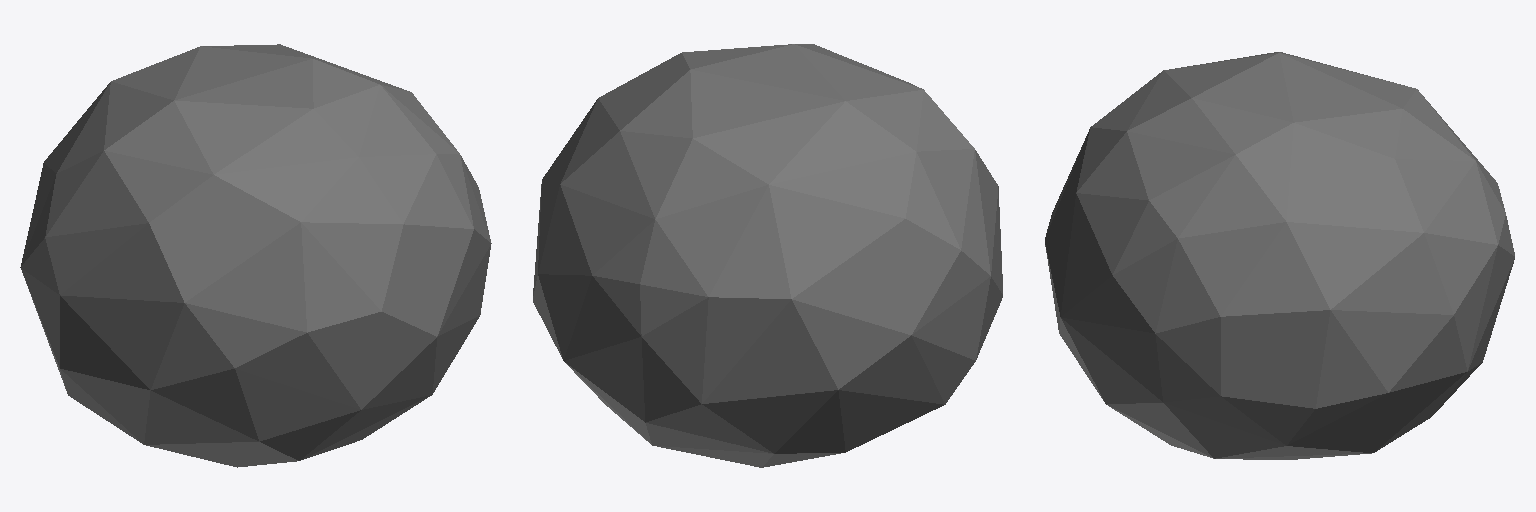
robot.urdf — watermelon_001:
<?xml version="1.0" ?>
<robot name="watermelon_001">
  <material name="color">
    <color rgba=".5 .5 .5 1"/>
  </material>

  <link name="base_link">
    <contact>
      <lateral_friction value="1.0"/>
      <rolling_friction value="0.001"/>
      <spinning_friction value="0.001"/>
      <inertia_scaling value="1.0"/>
    </contact>
    <inertial>
      <origin rpy="0 0 0" xyz="-0.000340308 -0.00171742 5.28722e-05"/>
       <mass value="0.1"/>
       <inertia ixx="1" ixy="0" ixz="0" iyy="1" iyz="0" izz="1"/>
    </inertial>

    <visual>
      <origin rpy="0 0 0" xyz="0 0 0"/>
      <geometry>
        <mesh filename="watermelon_001_vhacd_0_of_1.obj" scale="1 1 1"/>
      </geometry>
      <material name="color"/>
    </visual>

    <collision>
      <origin rpy="0 0 0" xyz="0 0 0"/>
      <geometry>
        <mesh filename="watermelon_001_vhacd_0_of_1.obj" scale="1 1 1"/>
      </geometry>
    </collision>

  </link>
</robot>

--- Facts derived from the render (not from the file) ---
The picture shows the robot from 3 angles, left to right: view 1: azimuth 30°, elevation 25°; view 2: azimuth 150°, elevation 25°; view 3: azimuth 270°, elevation 25°; orthographic projection.
Robot: watermelon_001 — 1 links, 0 joints (none); root link base_link; default pose: all joints at 0.
Links seen in each view (by area): view 1: base_link; view 2: base_link; view 3: base_link.
Boxes of the visible links, <box> form: base_link: <box>20,44,491,467</box>; base_link: <box>533,44,1002,467</box>; base_link: <box>1045,52,1514,459</box>.
Bounding box of the posed robot: 0.2978 × 0.3037 × 0.2446 m (x, y, z).
1 mesh visuals loaded from 1 distinct referenced files (1 OBJ).